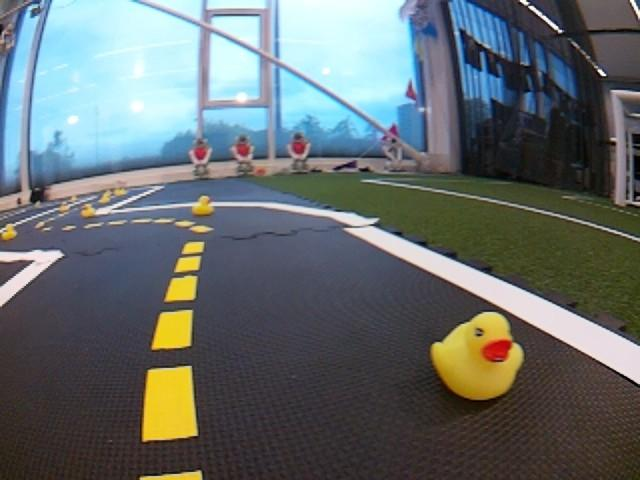Duckies: (431, 311, 526, 401), (191, 195, 215, 215), (1, 224, 17, 241), (80, 204, 96, 218), (98, 193, 111, 204), (58, 202, 70, 213), (114, 187, 125, 196)
